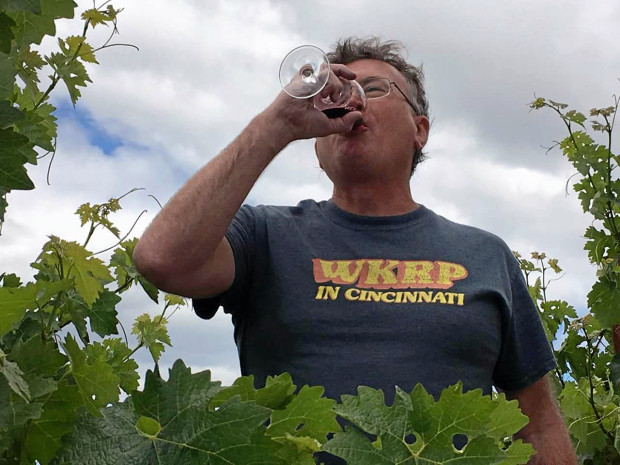drinking: (224, 18, 521, 353)
